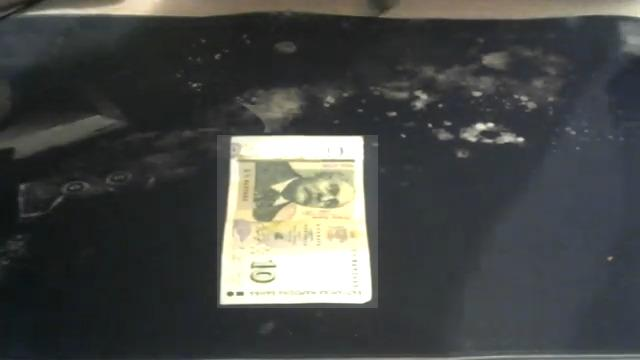10leva: (217, 135, 378, 308)
